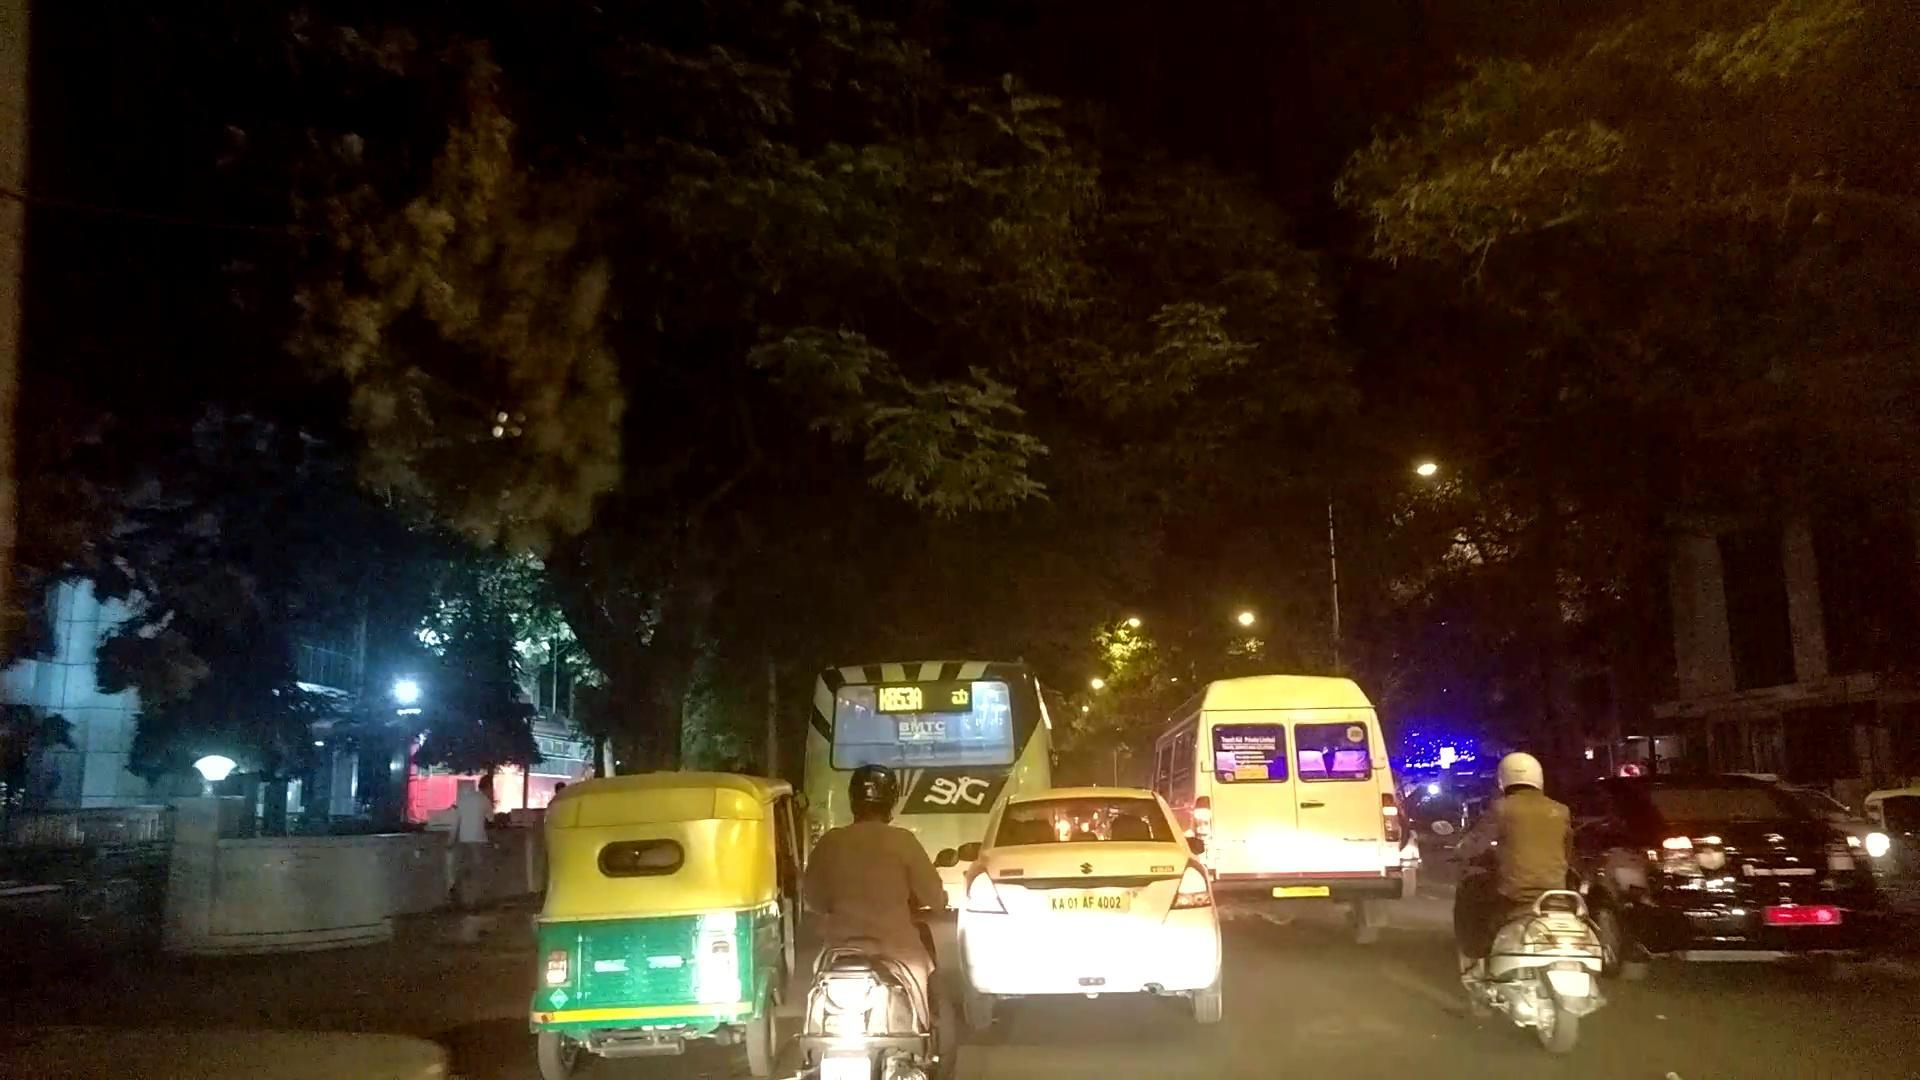on: (61, 3, 1862, 1080)
